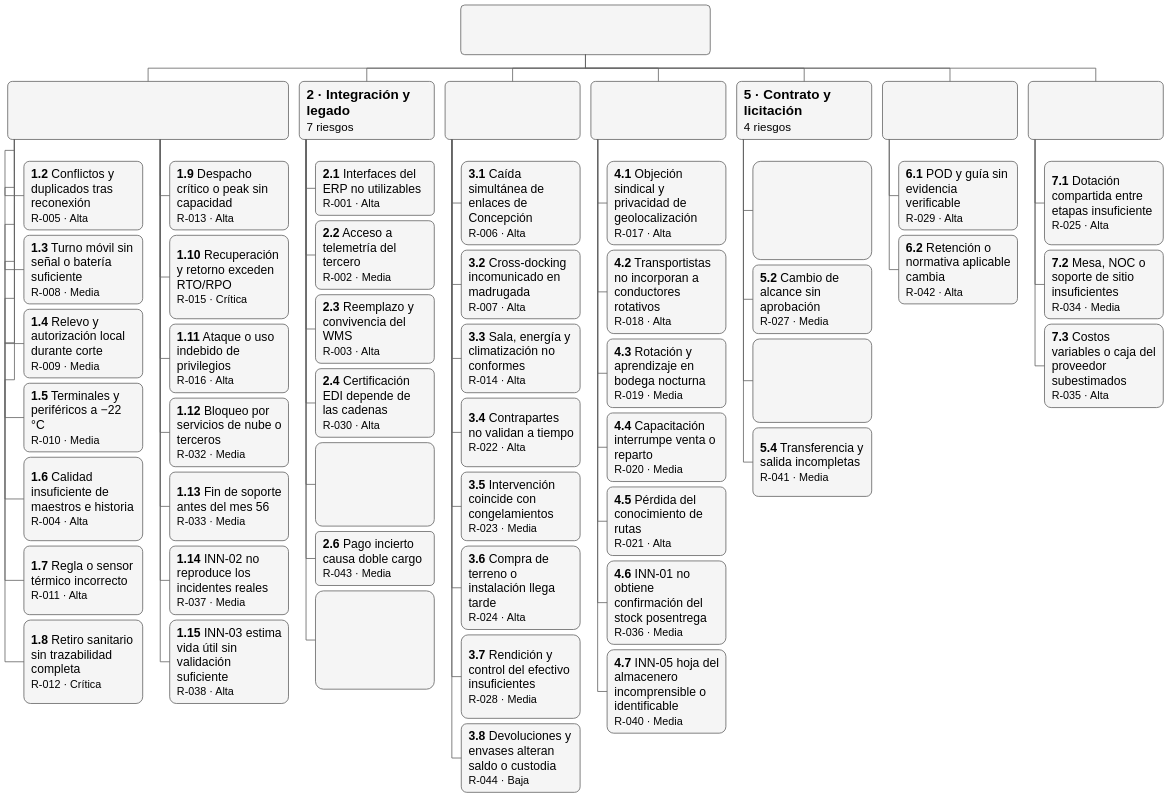
This 1168x797 diagram has some shape labels left out. Each missing label, with the box of its shape:
1 · Solución y tecnología 14 riesgos: (7, 81, 289, 140)
2.5 Avisos no llegan o se confunden con lectura R-031 · Media: (315, 442, 435, 526)
2.7 Mapa o datos de ruteo no representan restricciones reales R-045 · Alta: (315, 590, 435, 689)
3 · Operación del cliente 8 riesgos: (445, 81, 580, 140)
4 · Personas y adopción 7 riesgos: (590, 81, 726, 140)
5.1 Observaciones o marcha blanca impiden aceptación R-026 · Alta: (752, 161, 872, 260)
5.3 INN-04 incentivo distorsiona costo de servir R-039 · Media: (752, 338, 872, 423)
6 · Regulatorio y externo 2 riesgos: (882, 81, 1018, 140)
7 · Empresa proveedora 3 riesgos: (1028, 81, 1164, 140)
Riesgos del proyecto LafroX 45 riesgos · reserva 2.058,5 HH: (460, 4, 711, 55)
